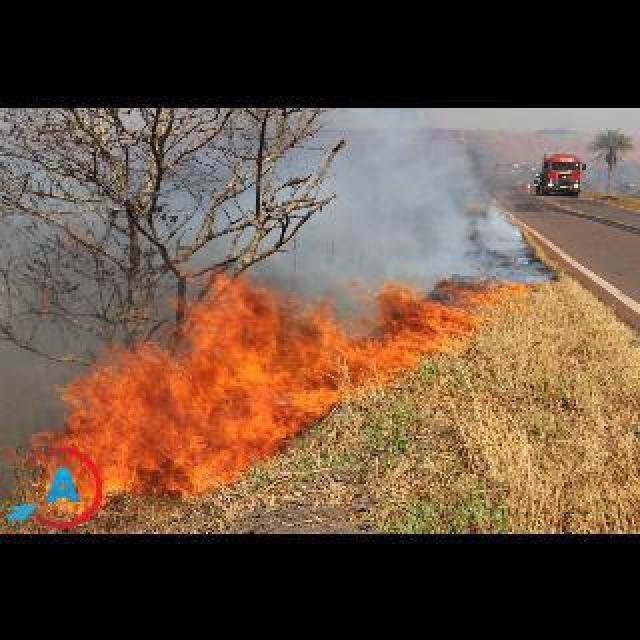Fire: (36, 276, 526, 510)
